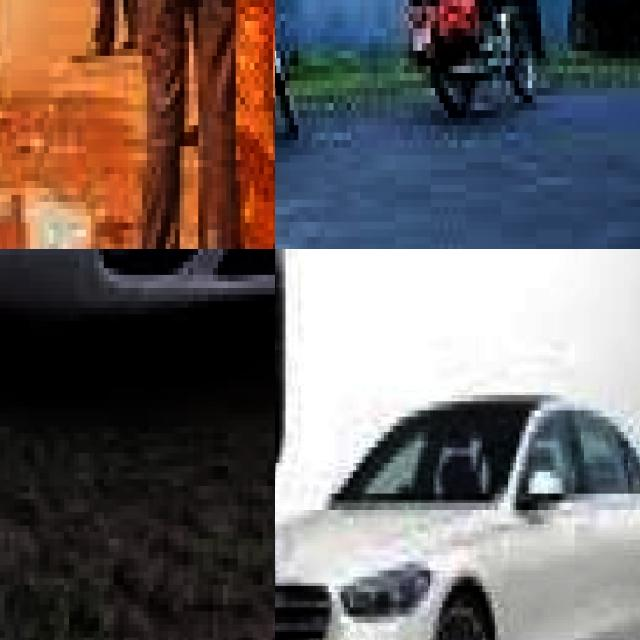bike: (404, 0, 549, 125)
car: (275, 249, 640, 640), (0, 249, 275, 341), (275, 249, 353, 478)
